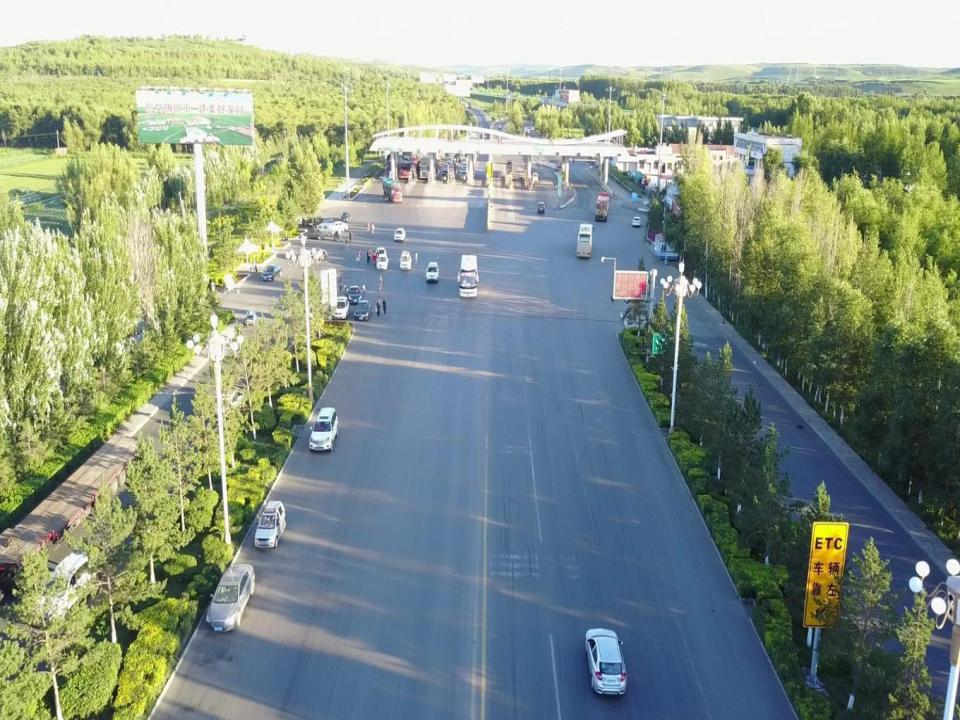bus: (458, 254, 478, 298), (575, 222, 595, 258)
car: (32, 549, 113, 627), (205, 562, 255, 632), (586, 628, 627, 694), (254, 500, 285, 548), (310, 406, 338, 452), (330, 295, 350, 320), (354, 299, 372, 320), (262, 264, 282, 282), (346, 285, 362, 304), (302, 228, 326, 240), (304, 248, 328, 260), (426, 262, 439, 283), (399, 250, 412, 270), (327, 221, 348, 233), (315, 216, 333, 229), (375, 254, 389, 270), (394, 227, 406, 242), (375, 248, 387, 261), (340, 211, 350, 222), (632, 216, 641, 226), (458, 170, 466, 179), (556, 161, 564, 168), (460, 168, 467, 176), (440, 172, 446, 181), (462, 162, 468, 170), (462, 166, 468, 172), (506, 159, 513, 164)
truck: (382, 177, 402, 203), (595, 191, 610, 222), (648, 178, 673, 193), (386, 151, 402, 174), (400, 158, 413, 180), (418, 157, 430, 179), (408, 152, 420, 166)
van: (314, 224, 334, 236), (537, 202, 545, 214), (532, 171, 538, 181)
